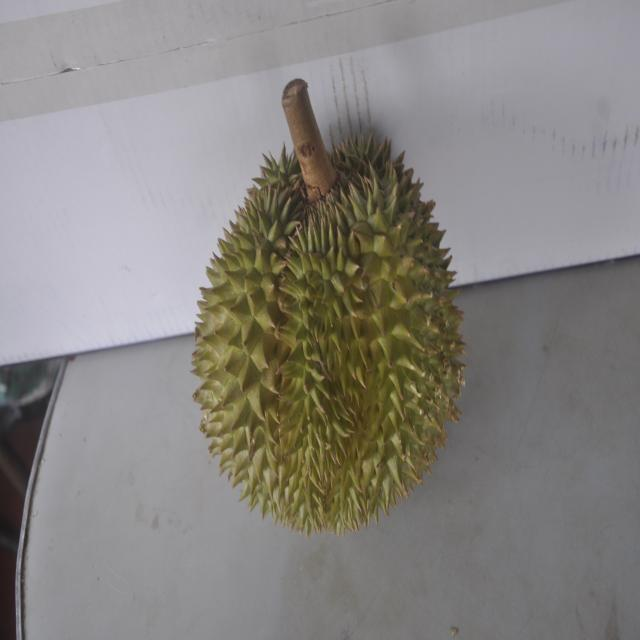mature: (192, 94, 460, 536)
